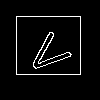V: (23, 24, 80, 80)
